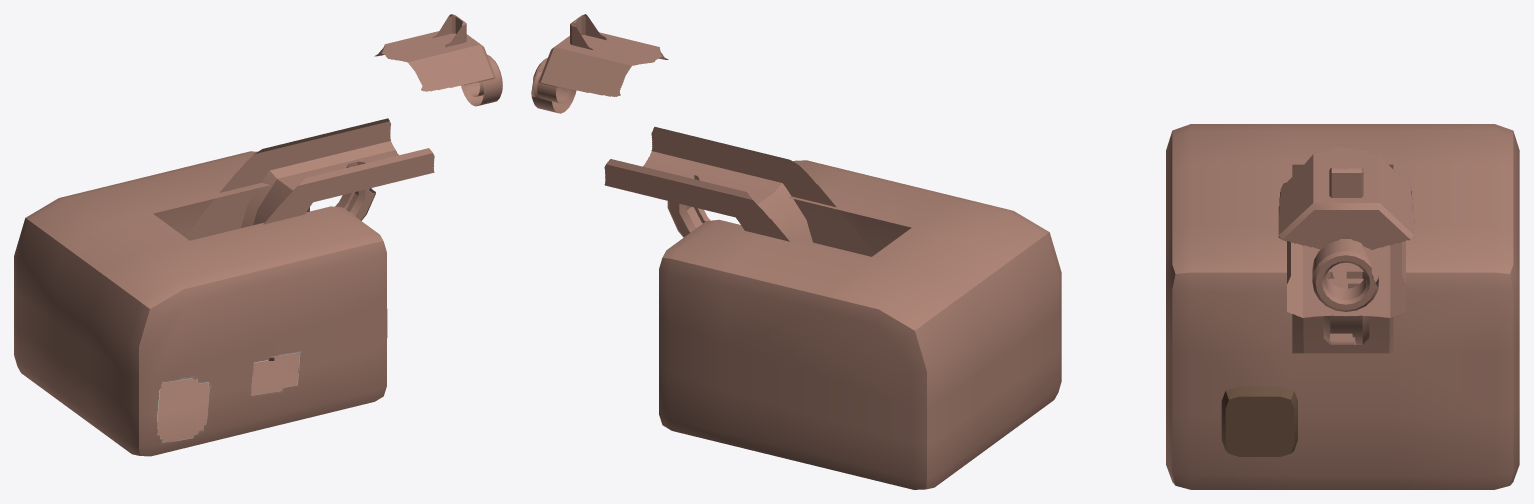
The model's file is Turret_Gun.fbx.
3 views of the same model, side by side, from view 1: azimuth 30°, elevation 25°; view 2: azimuth 150°, elevation 25°; view 3: azimuth 270°, elevation 25° (orthographic). The views are drawn at different scales.
Visible parts, largest first — view 1: SM_Miniturret_Top_WithGun_LOD0.mo; view 2: SM_Miniturret_Top_WithGun_LOD0.mo; view 3: SM_Miniturret_Top_WithGun_LOD0.mo.
Part boxes in pixels (box(x1,y1,x2,y2)): SM_Miniturret_Top_WithGun_LOD0.mo: box(14, 14, 502, 456); SM_Miniturret_Top_WithGun_LOD0.mo: box(531, 14, 1061, 489); SM_Miniturret_Top_WithGun_LOD0.mo: box(1166, 124, 1519, 489).
Bounding box in the file's own units: 98.5 × 73.86 × 63.73.
3 materials, 2 textured.
